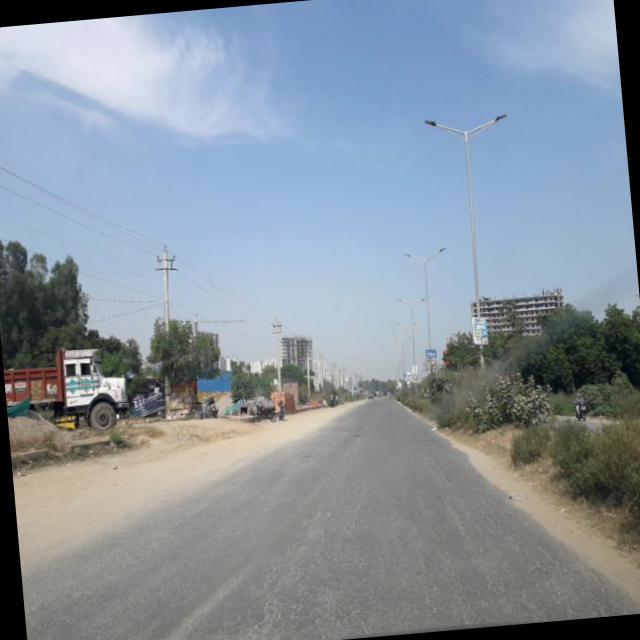crack: (43, 499, 566, 640)
